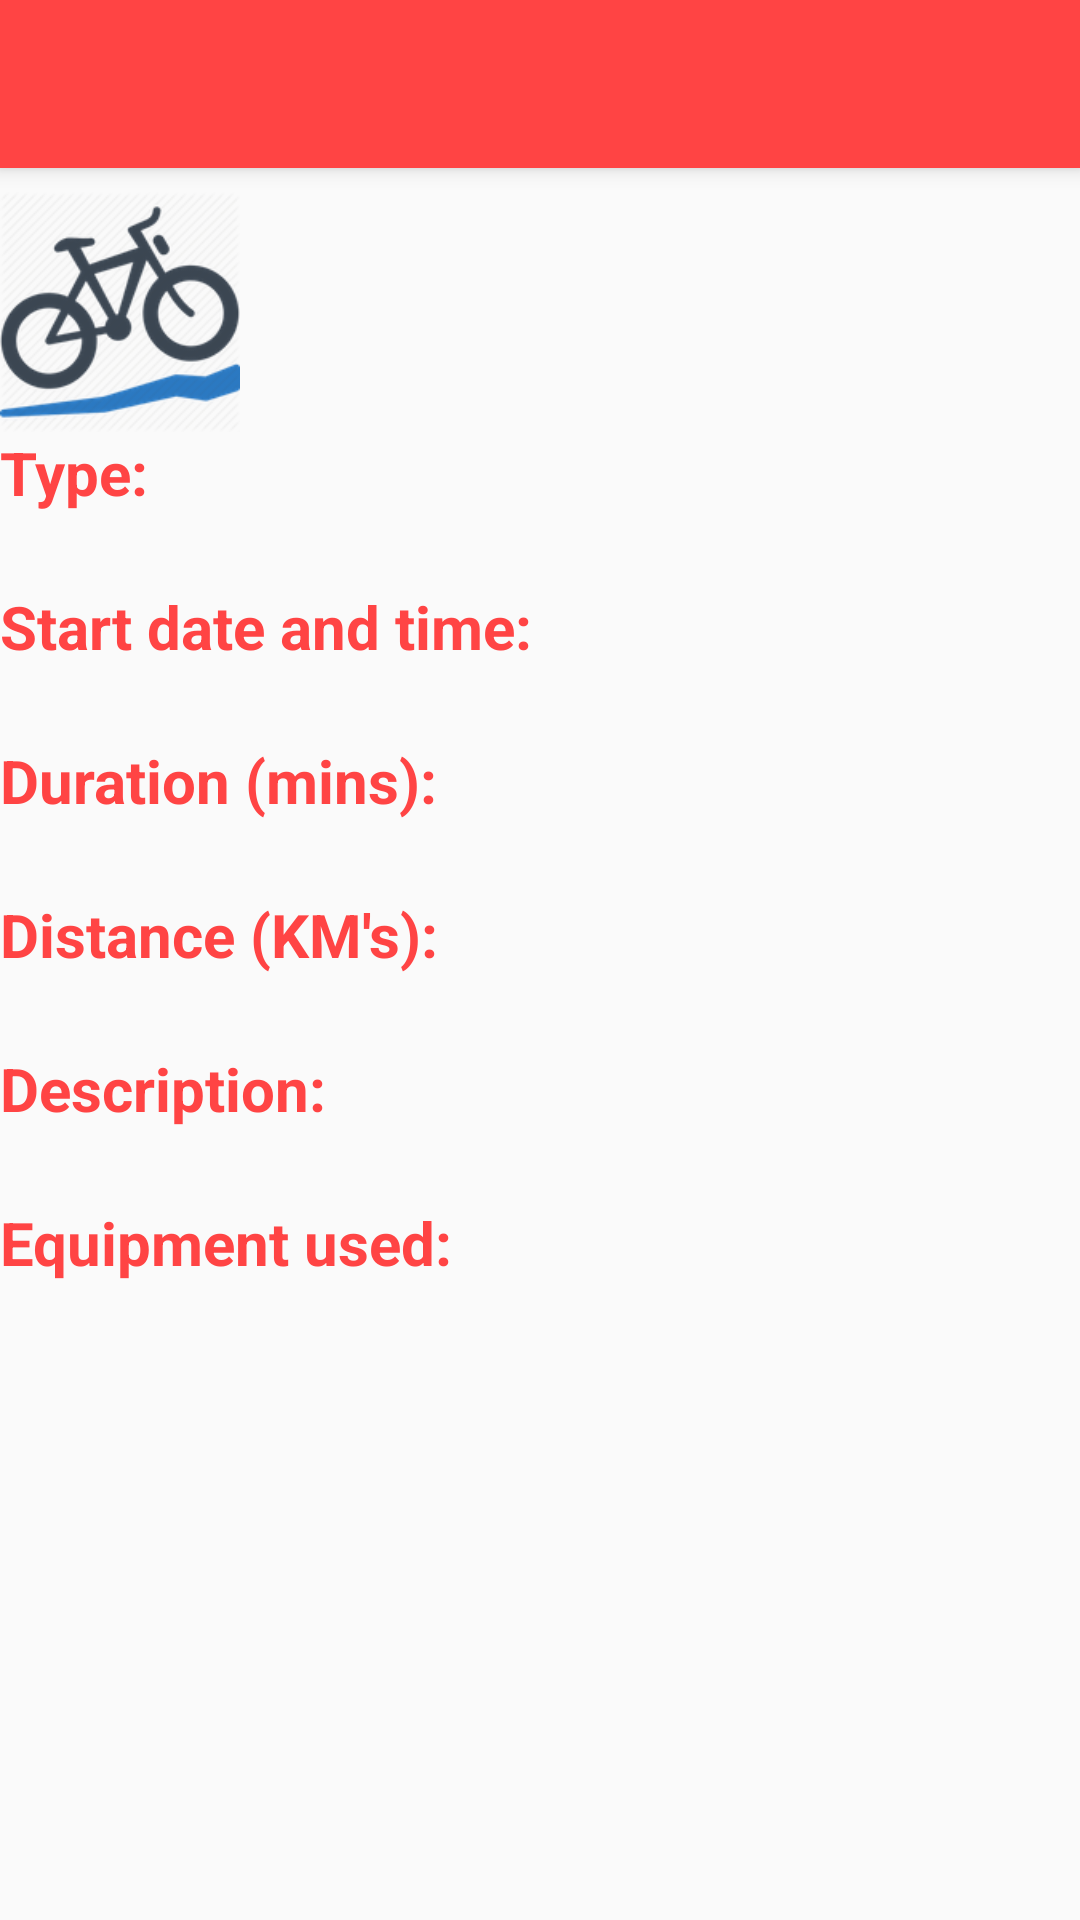

Where icons sit on this 1080w x 1920h app screen, as (x1, y1, x2, y2):
mtn bike: (0, 206, 240, 418)
